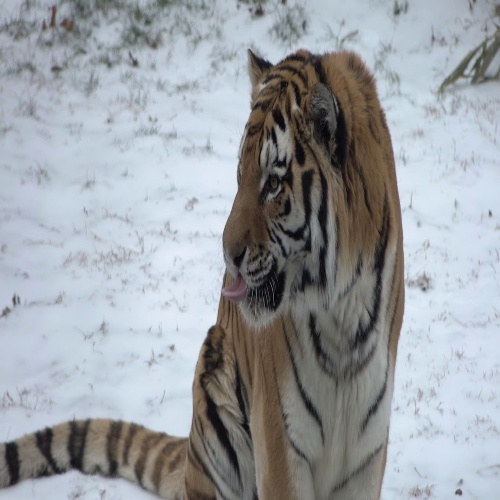tiger: (195, 40, 427, 376)
